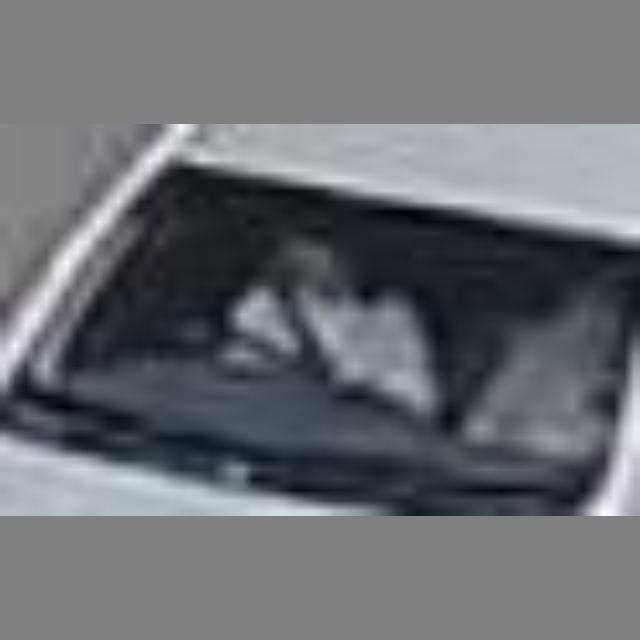pakai: (217, 238, 413, 413)
